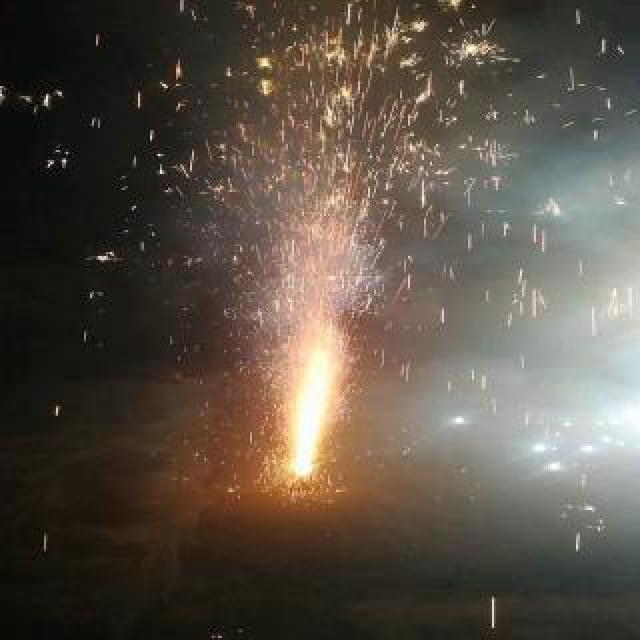Fire: (120, 0, 590, 522)
